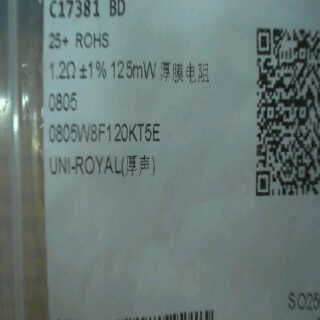1.2R: (48, 55, 79, 117)
